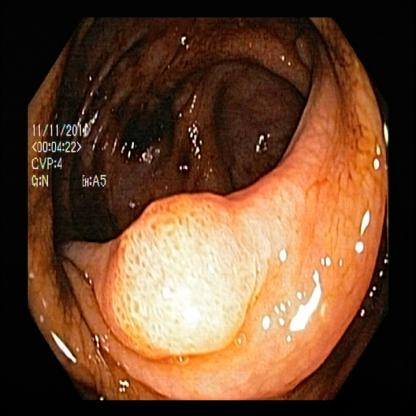Labels: (33, 107, 115, 191)
Polyps: (109, 208, 256, 350)
